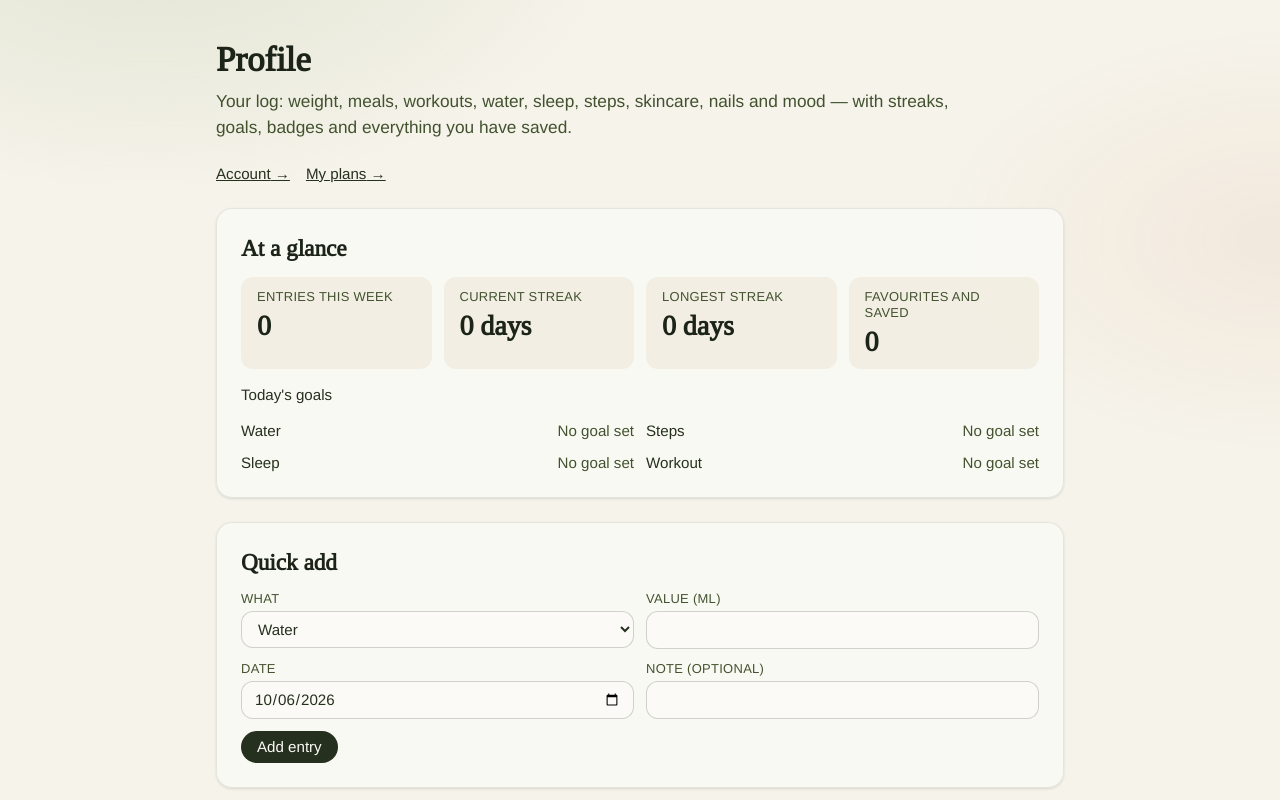
it: <ProfilePage> — quick add › validates inline: a missing value, then a future date; nothing is written
Click the button "Add entry" at (289, 747), box x1=241 y1=731 x2=338 y2=763
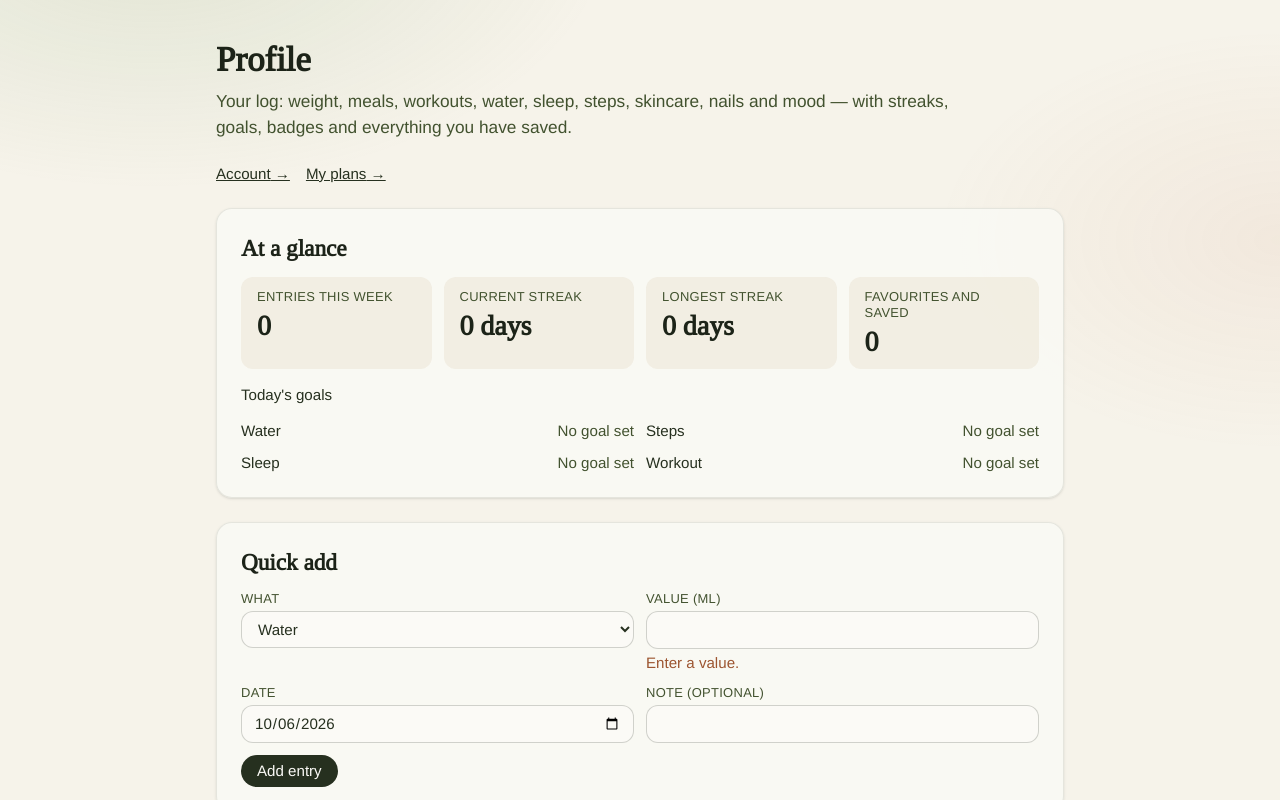
Check: the message reads "Enter a value.", box x1=646 y1=654 x2=739 y2=671
Type "500" into the field labelled "Value (ml)" at (842, 630), box x1=646 y1=611 x2=1039 y2=649
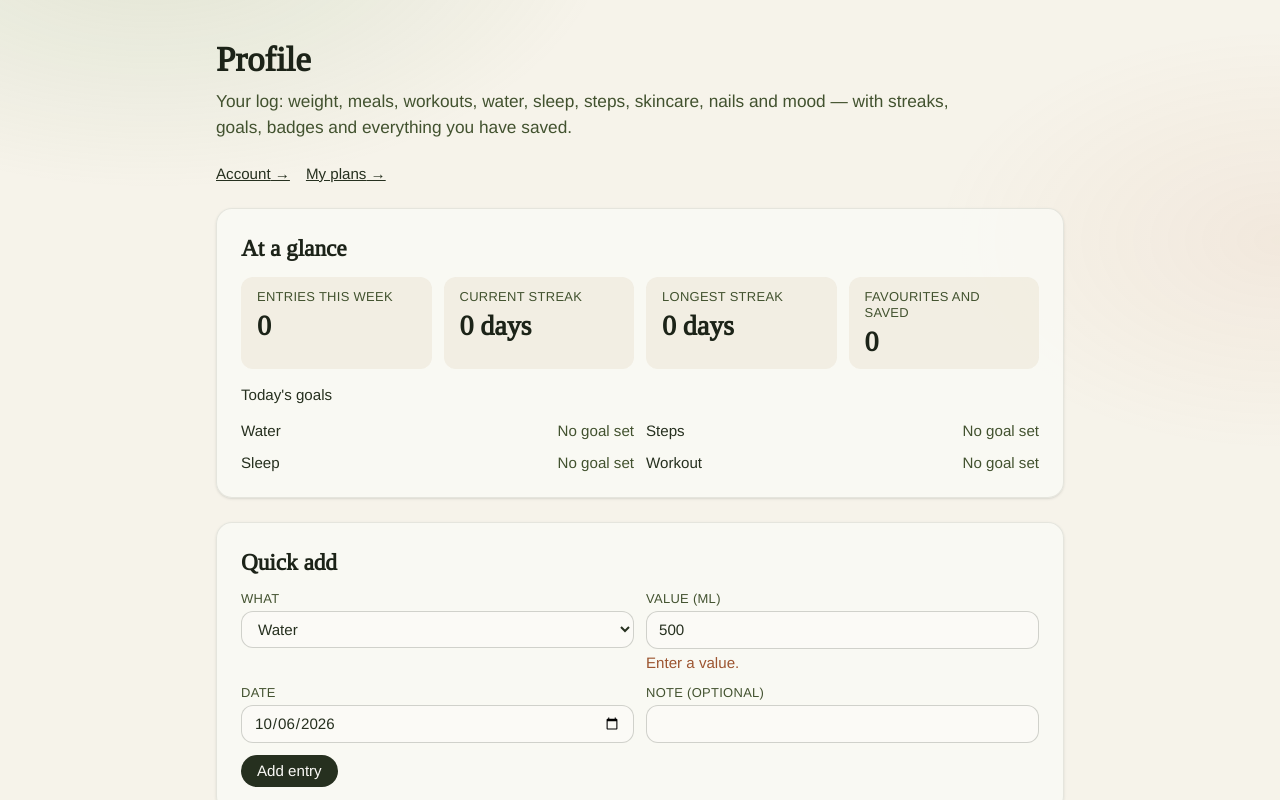
Type "2026-10-07" into the date field labelled "Date" at (438, 724), box x1=241 y1=705 x2=634 y2=743
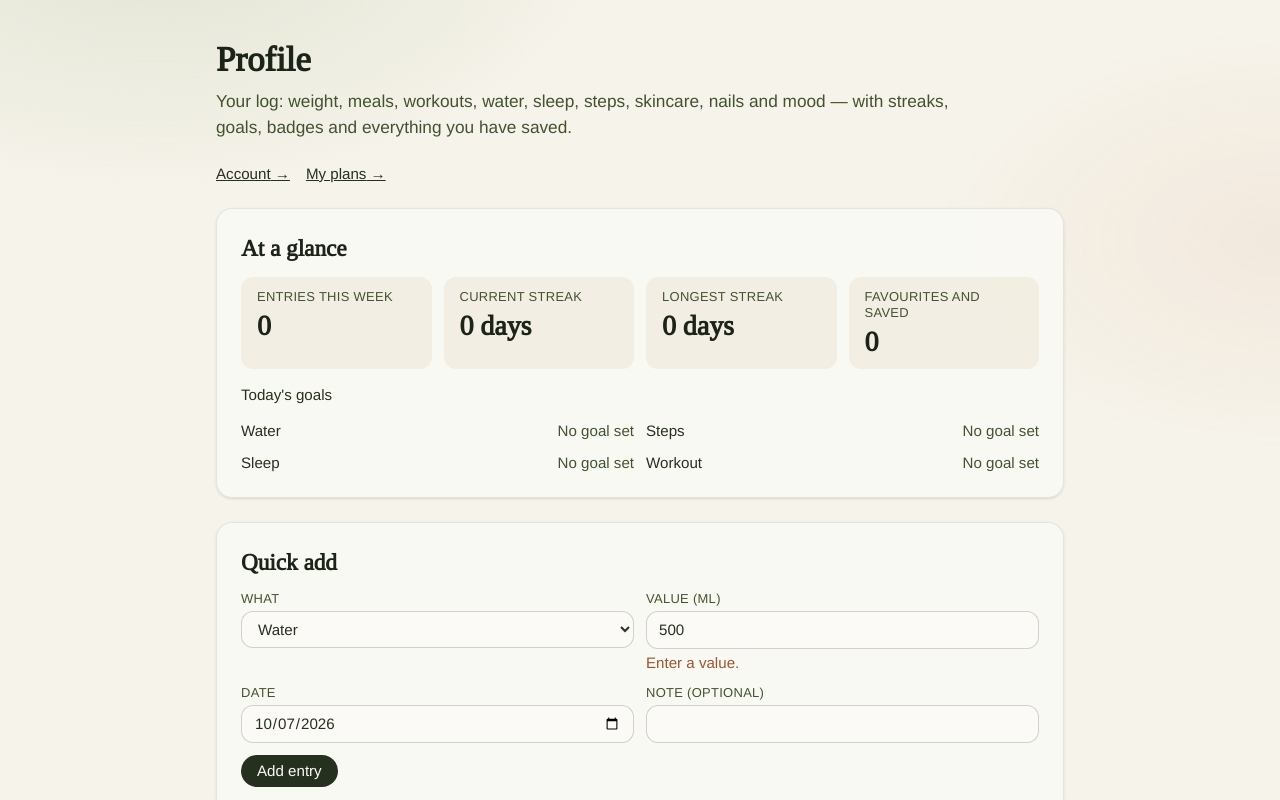
Click the button "Add entry" at (289, 771), box x1=241 y1=755 x2=338 y2=787
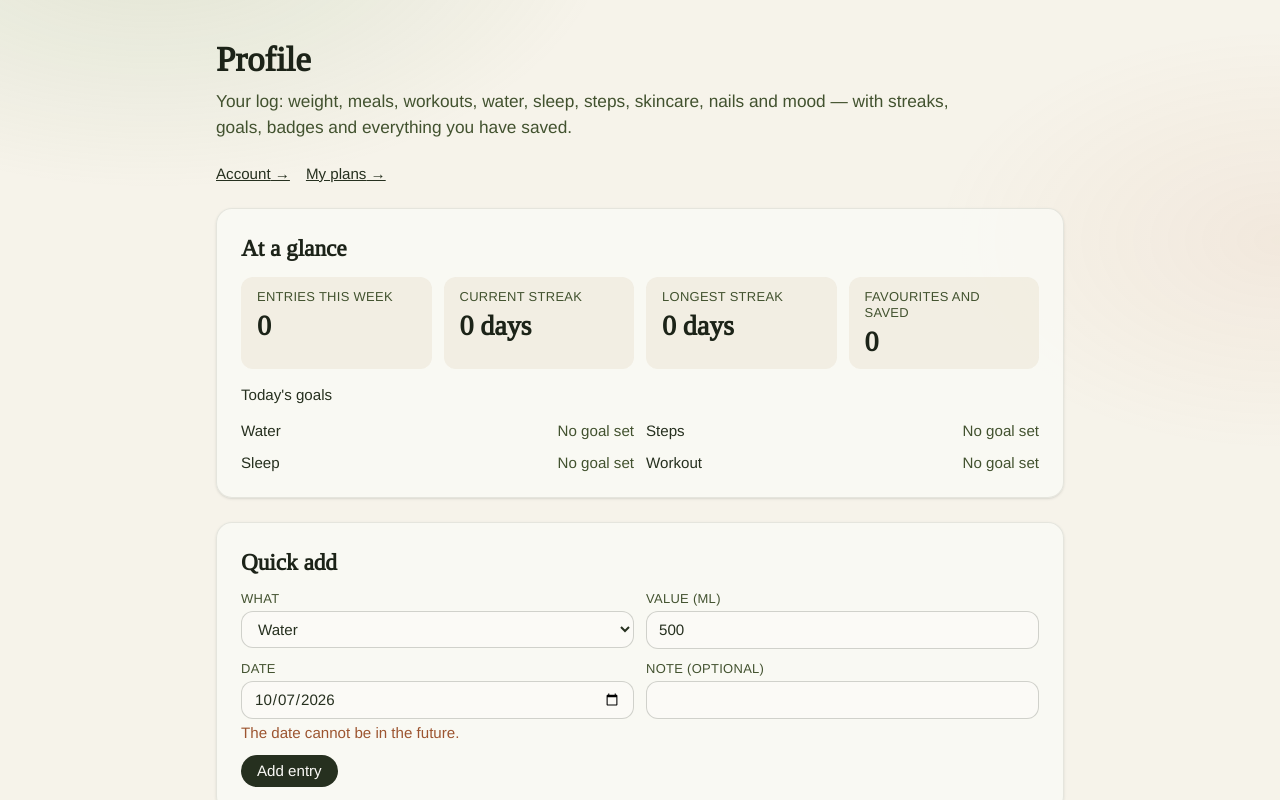
Check: the message reads "The date cannot be in the future.", box x1=241 y1=724 x2=459 y2=741
